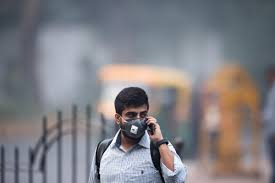mask: (119, 101, 149, 139)
